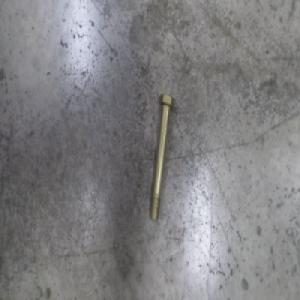Bolt: (148, 92, 175, 222)
